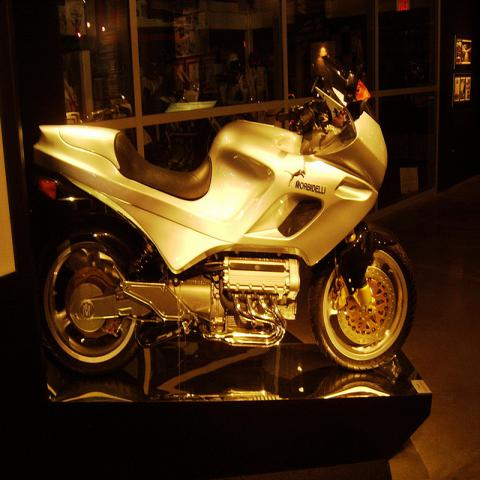motorcycle: (33, 52, 418, 375)
